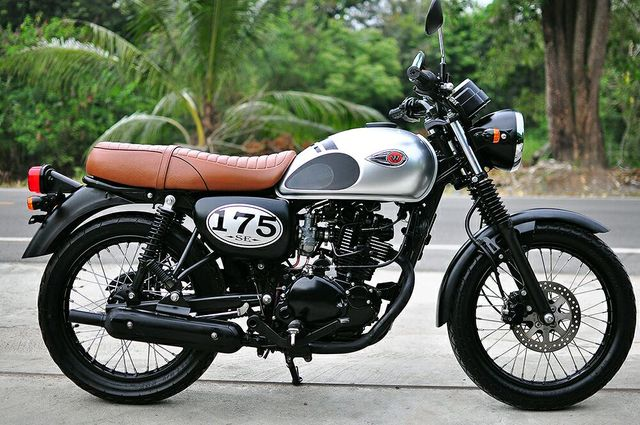motorcycle: (21, 75, 633, 411)
